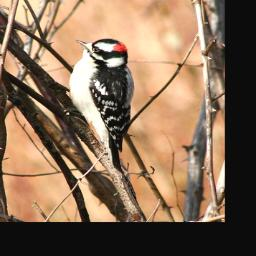Woodpecker: (64, 38, 134, 175)
